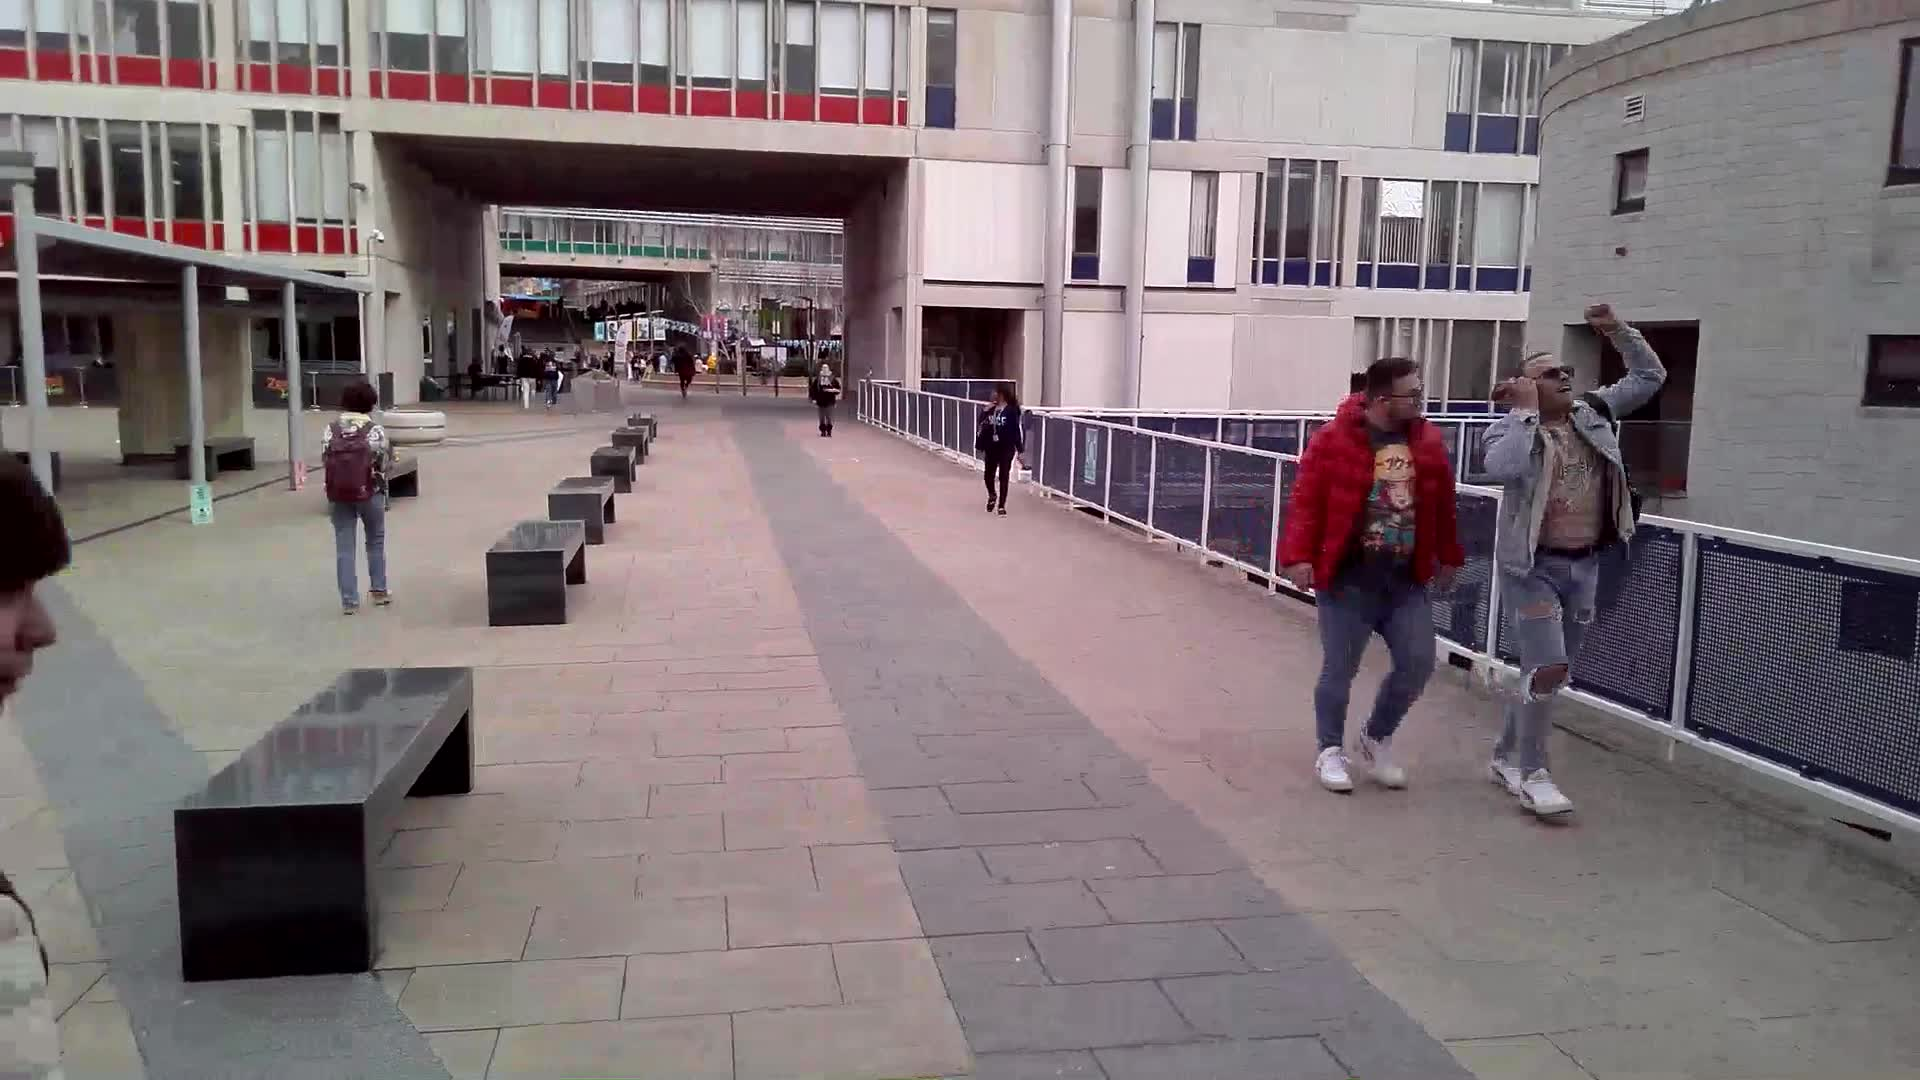Backpack: (322, 431, 384, 505)
Bench: (181, 665, 504, 982), (494, 513, 589, 629), (550, 473, 626, 530), (589, 438, 637, 493)
Person: (1492, 307, 1642, 797), (1318, 358, 1449, 799), (330, 378, 398, 602), (978, 387, 1033, 507), (806, 349, 848, 439)
